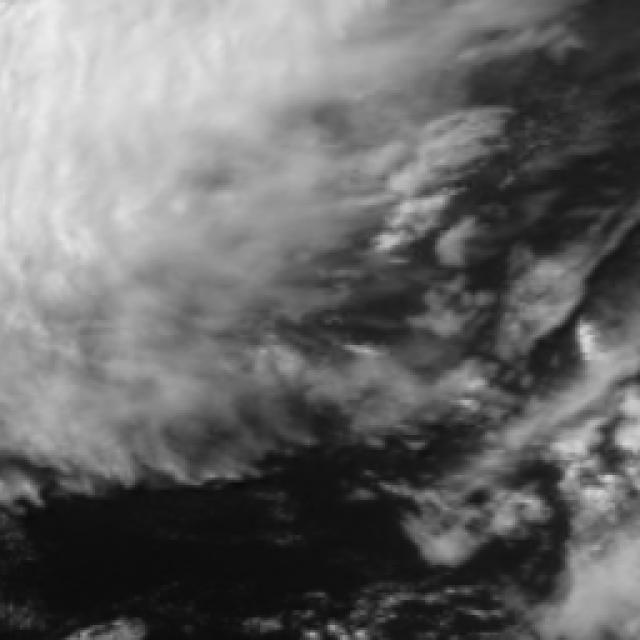CB: (0, 0, 260, 263)
